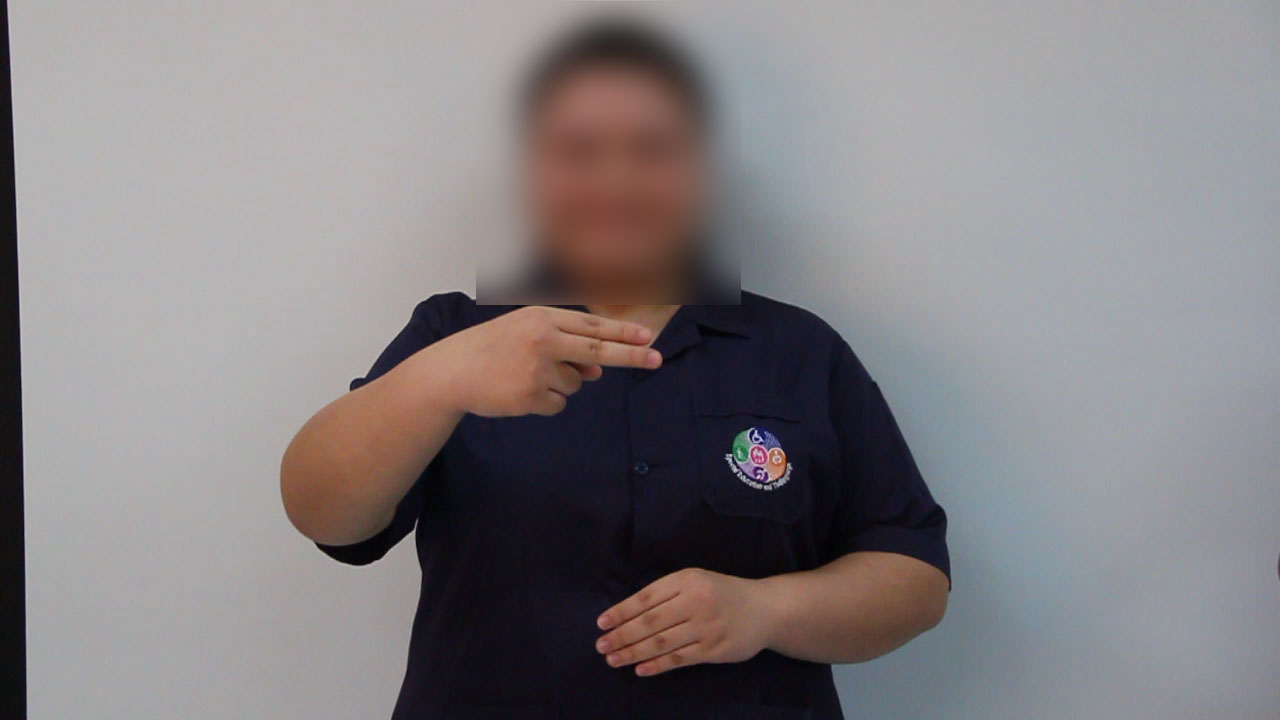hor: (416, 295, 674, 441)
